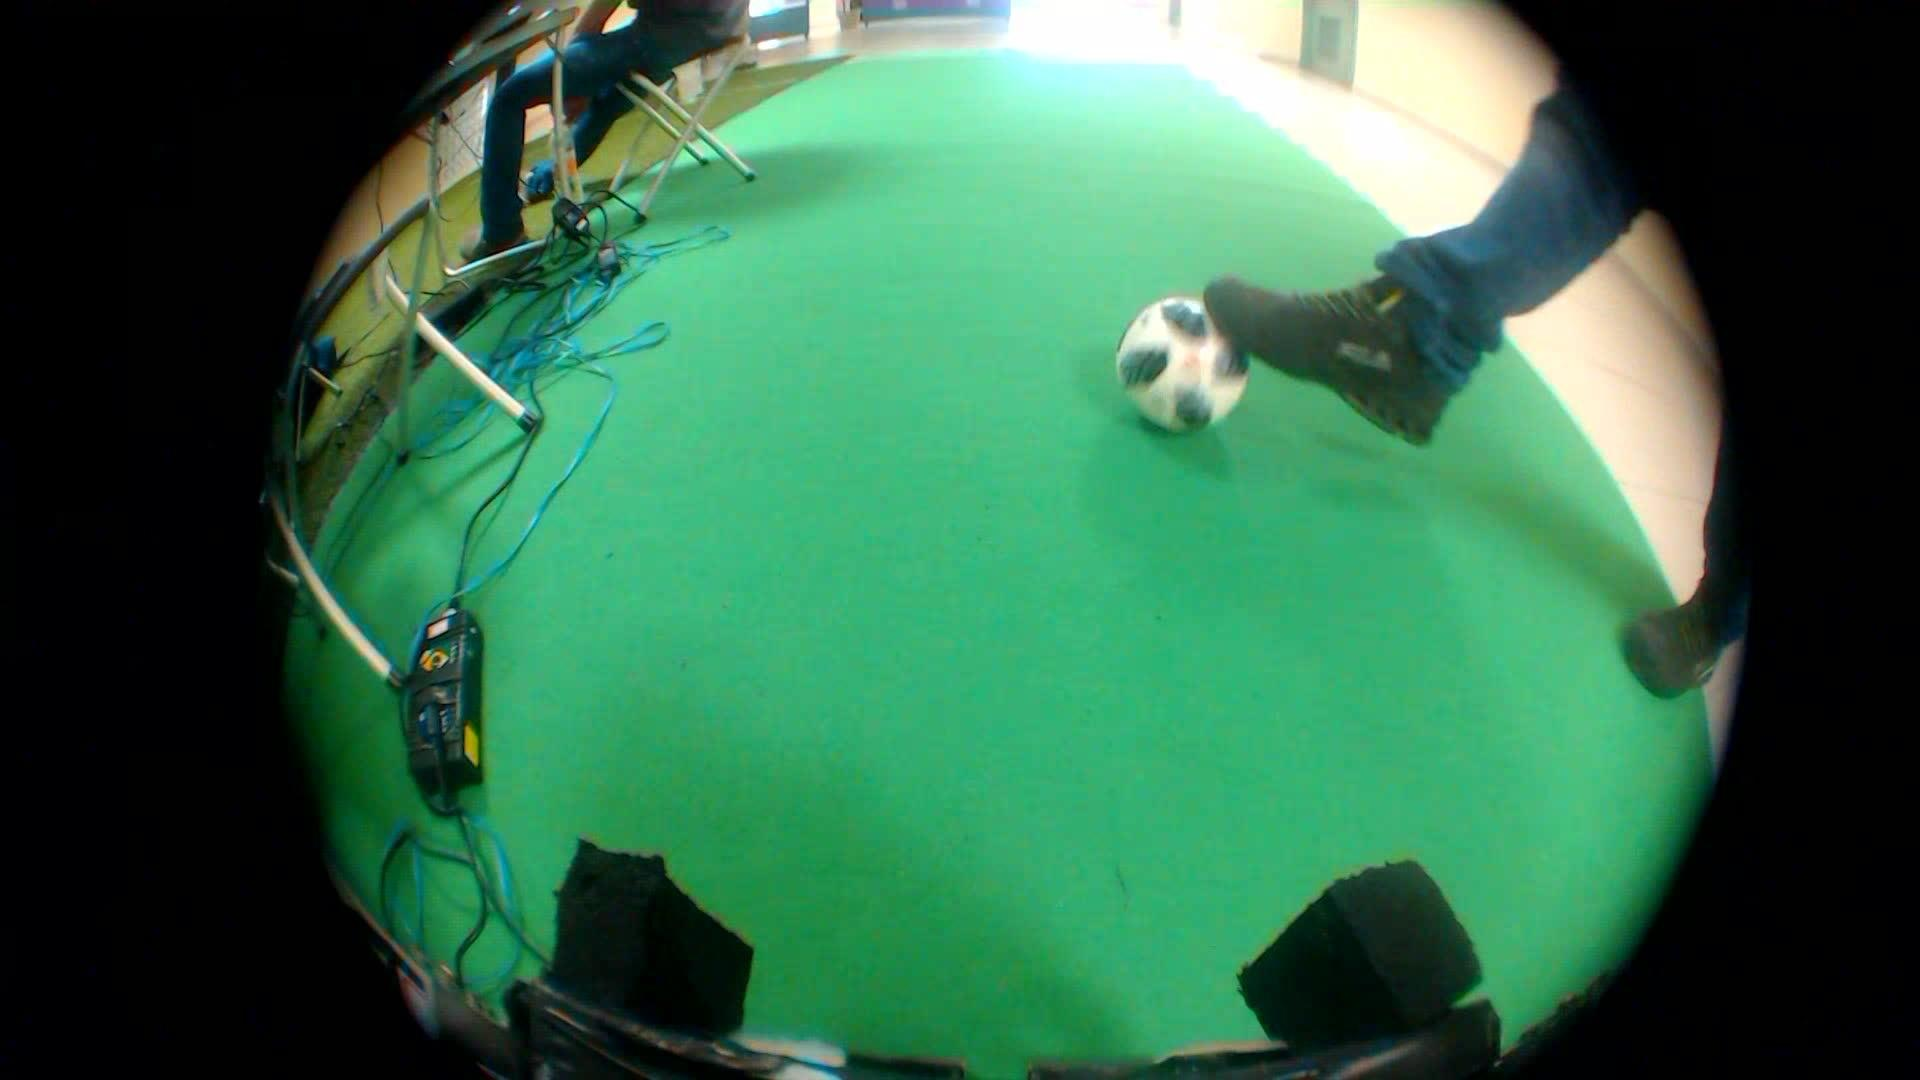ball: (1091, 277, 1263, 448)
